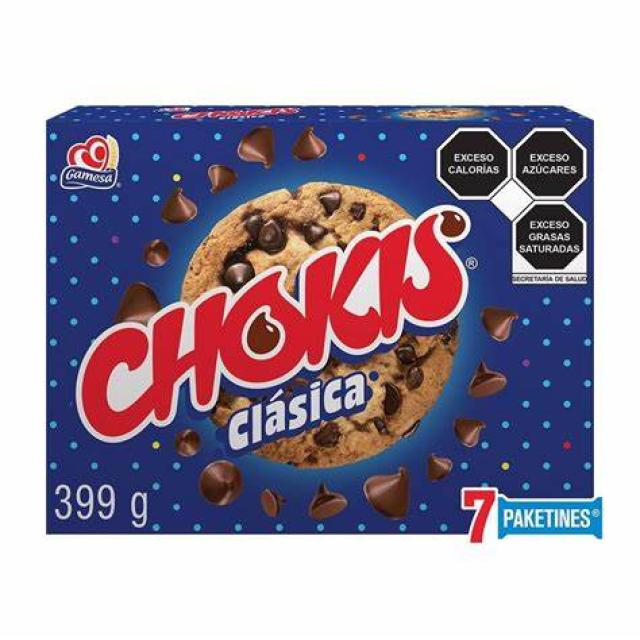Caja: (41, 88, 609, 554)
